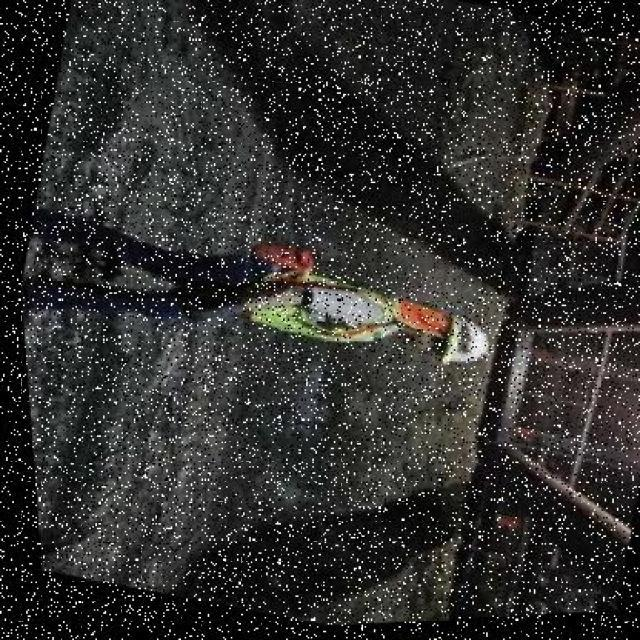helmet: (411, 311, 493, 389)
